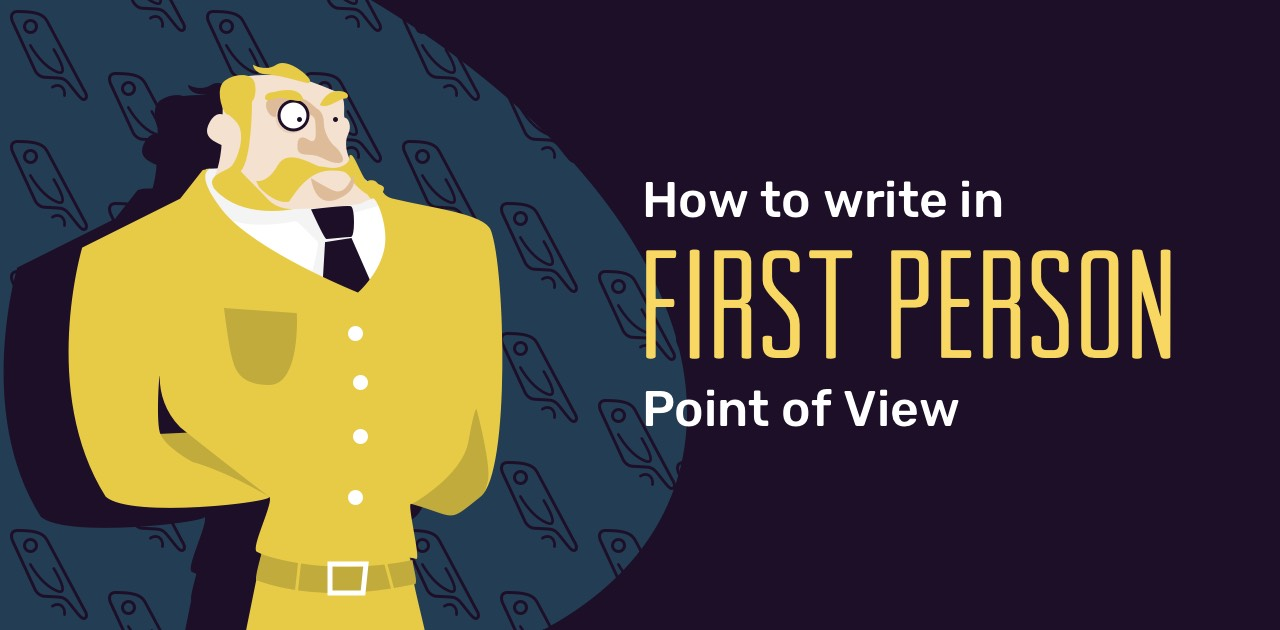person: (60, 60, 515, 630)
